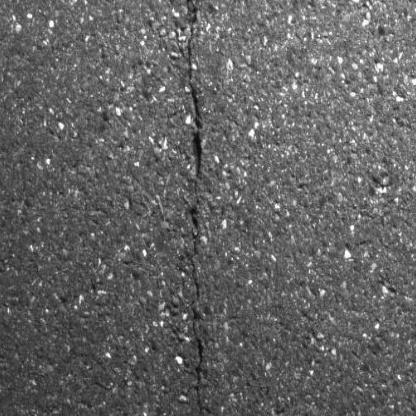Cracks: (180, 0, 212, 416)
